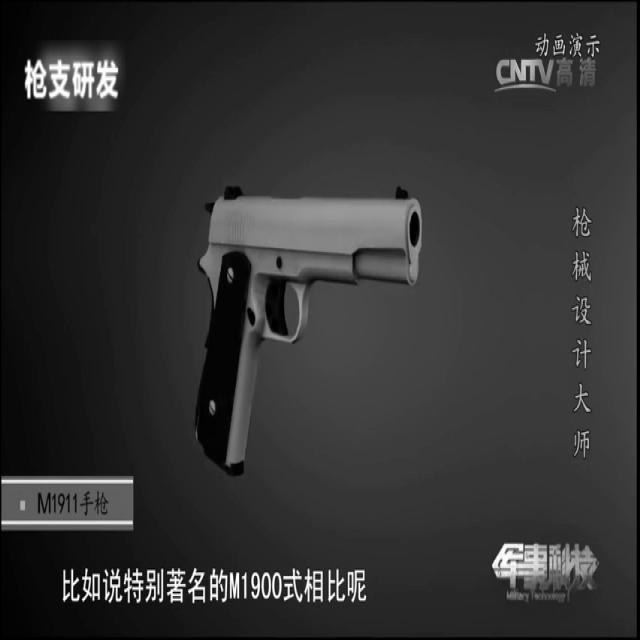Hand-Gun: (163, 142, 478, 541)
